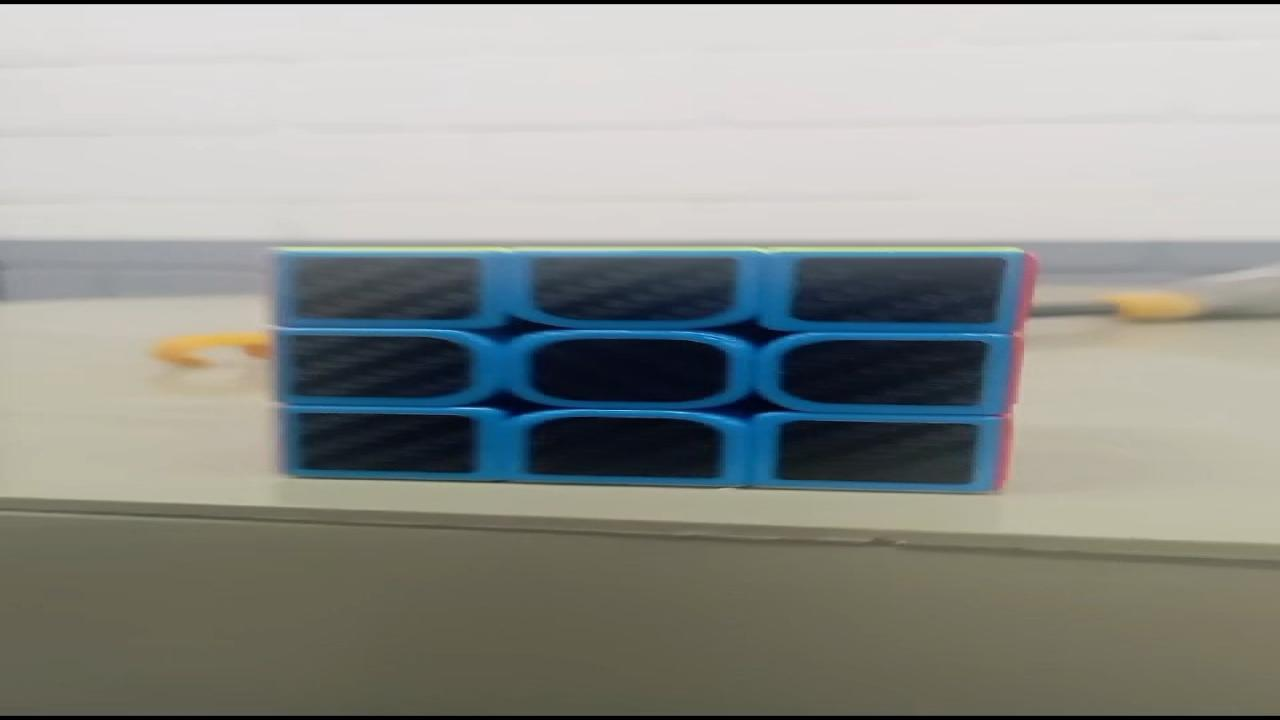Cube: (261, 244, 1040, 494)
